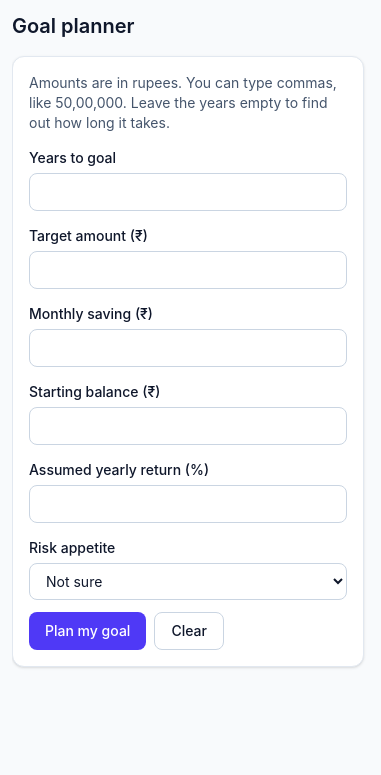
Test: GoalsView: the form › shows what is wrong, and sends nothing
Click the button "Plan my goal".
click(88, 631)  # box [29,612,146,650]
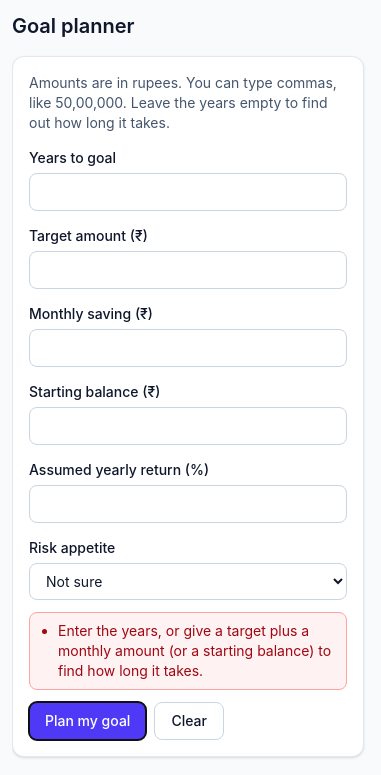
Expected: the message shows "years", [58,622,331,679]
